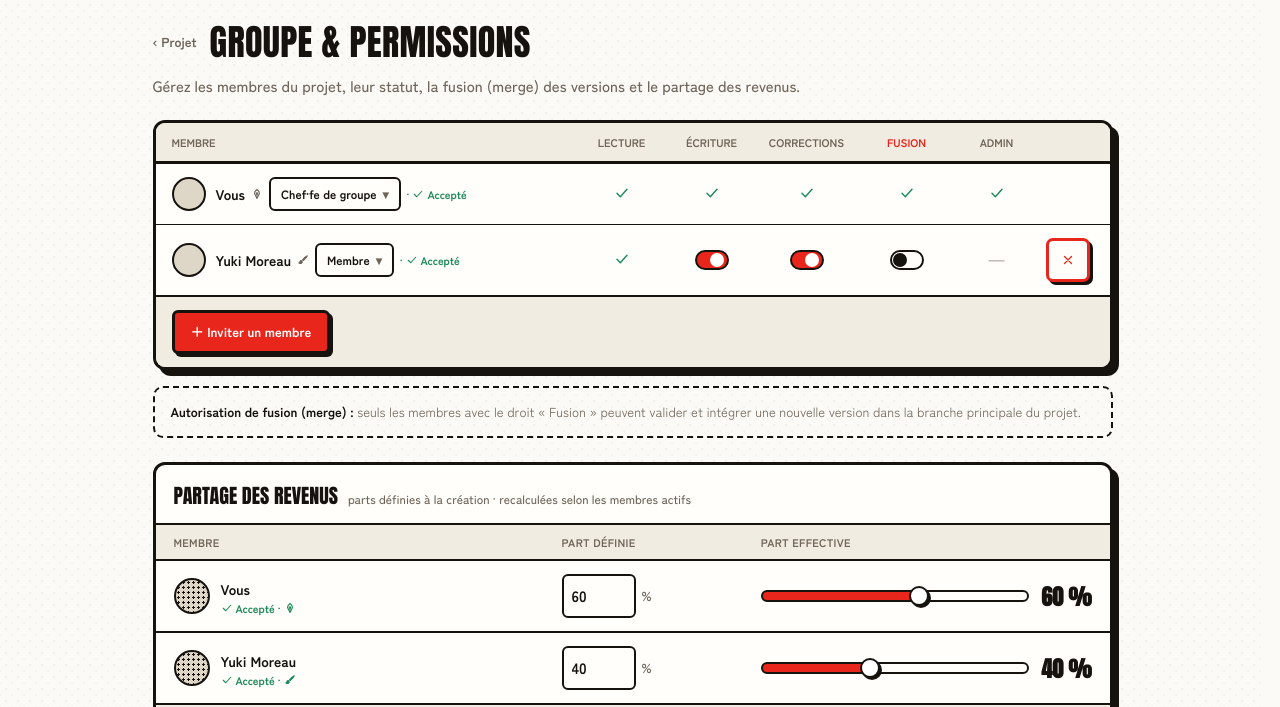
Test: GroupePermissionsClient — revenue split › updates the live total and blocks the save when it is not 100
This screenshot has width=1280, height=707.
Replace the text in the number field named "Part exacte de Yuki Moreau" with "30": point(599, 668) left=562, top=646, right=636, bottom=690
(page scrolled)
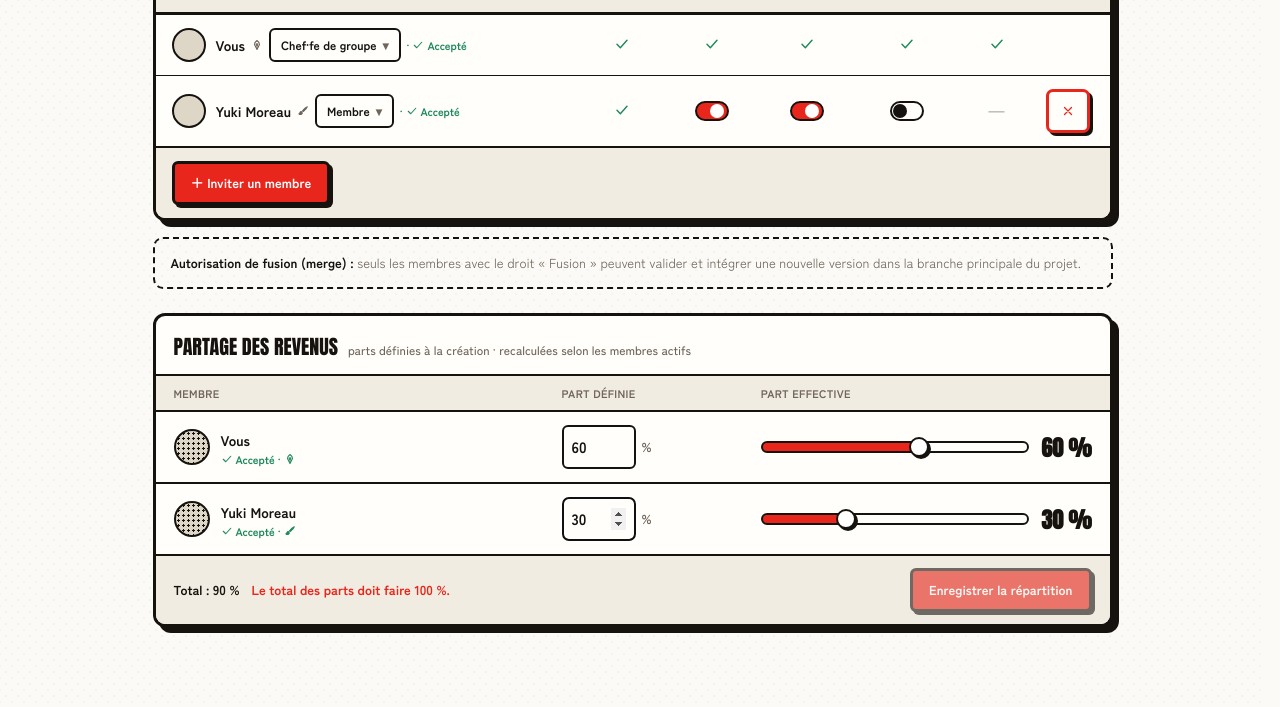
Check: the button "Enregistrer la répartition" is disabled, box left=910, top=568, right=1092, bottom=612
Check: the text "Le total des parts doit faire 100 %." is shown, box left=252, top=580, right=450, bottom=600
Check: the text "Total : 90 %" is shown, box left=174, top=580, right=240, bottom=599
